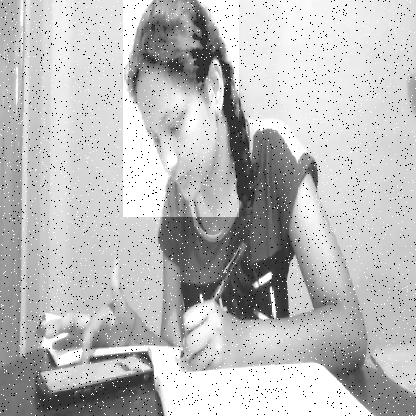Distracted: (123, 0, 239, 217)
